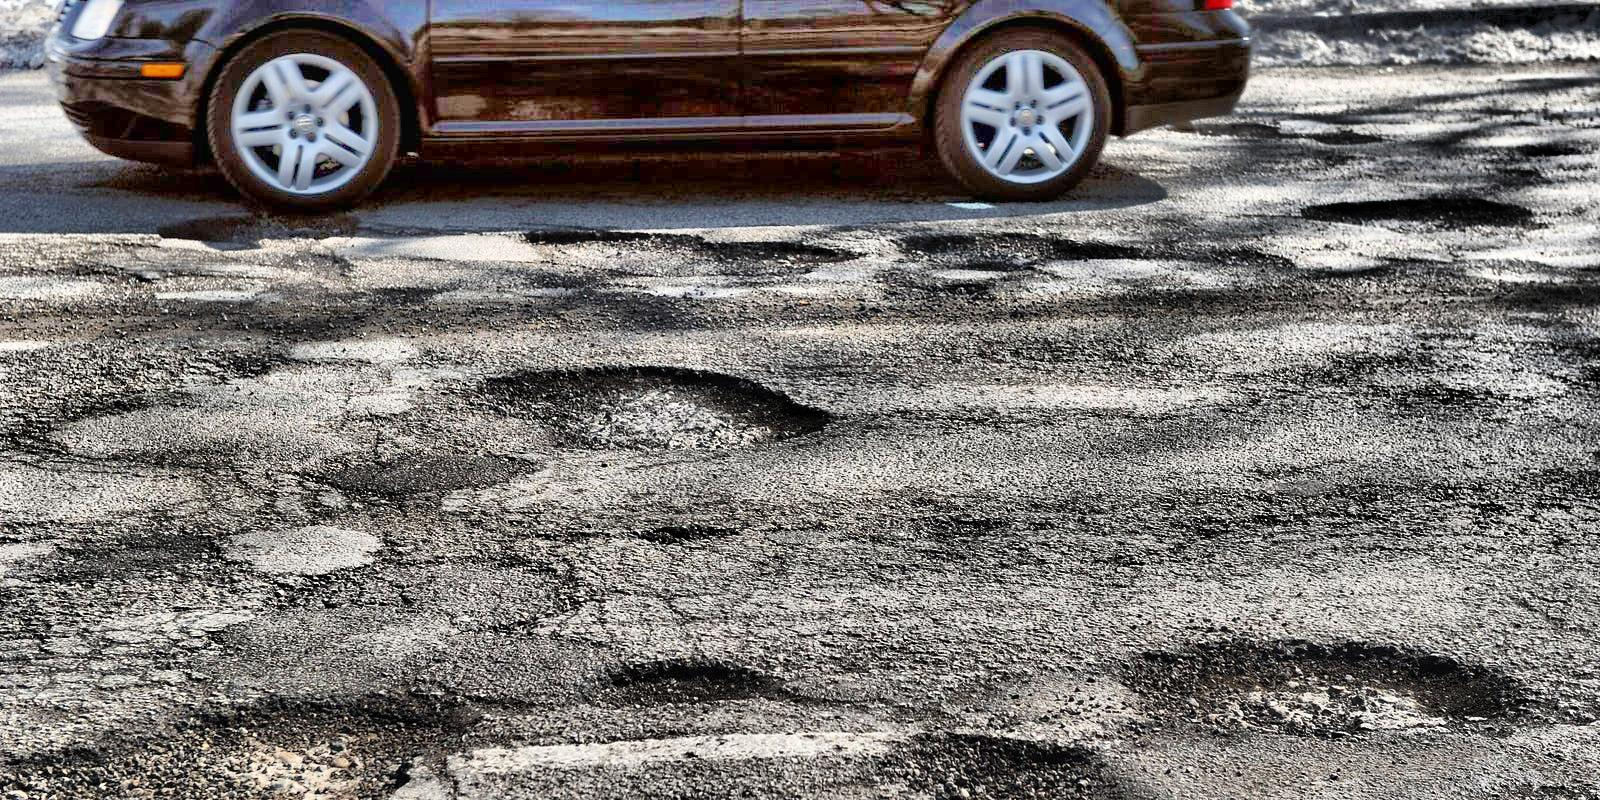pothole: (1, 696, 466, 800), (1120, 622, 1513, 742), (483, 360, 830, 458), (521, 221, 850, 281), (873, 716, 1099, 800), (893, 228, 1139, 274), (598, 658, 774, 720), (1298, 190, 1531, 233)
